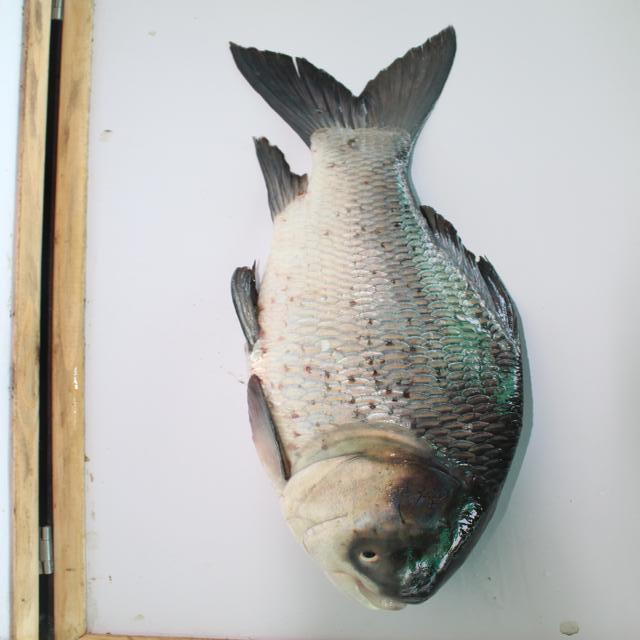Catla: (179, 22, 535, 619)
